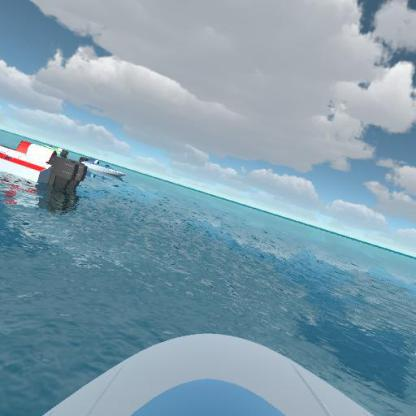usv0: (31, 138, 71, 160)
usv1: (77, 152, 133, 181)
usv3: (0, 136, 93, 201)
